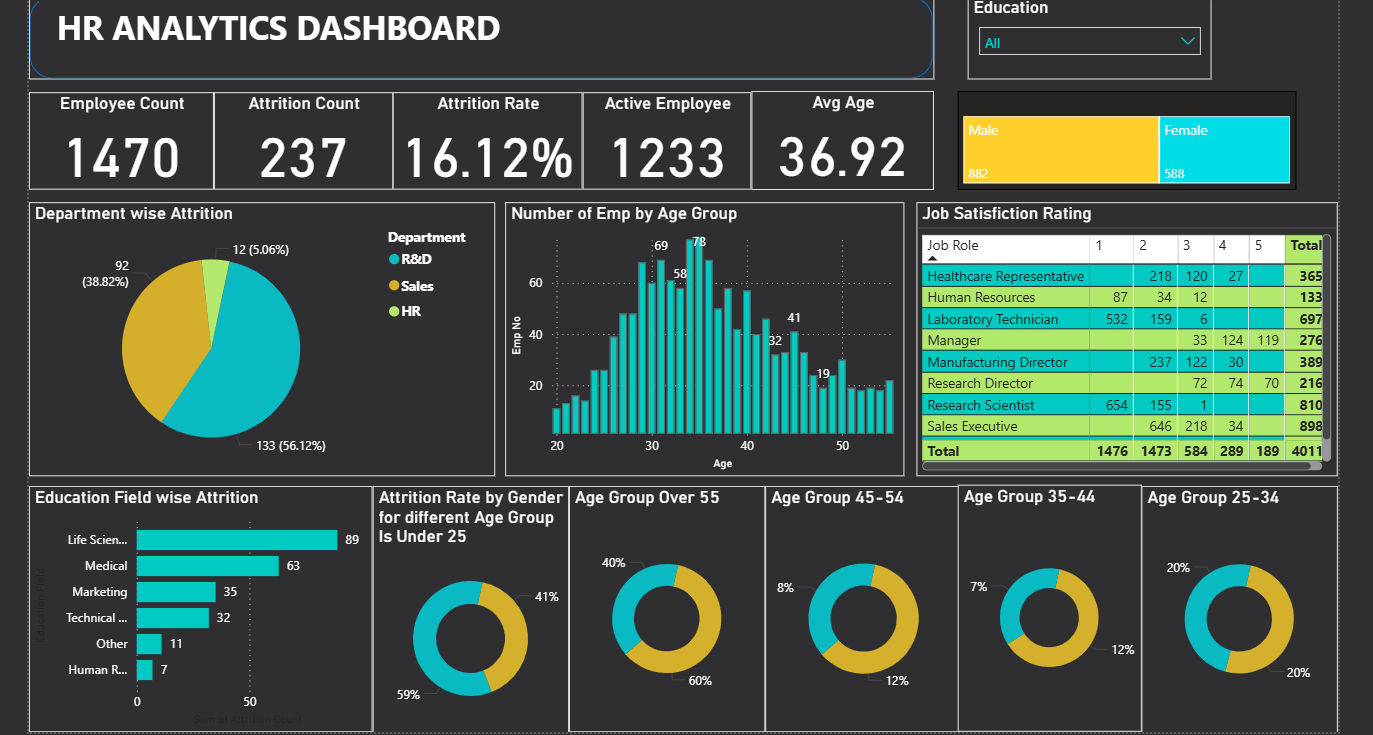

Layout of this report page (visuals, bound fields, positions):
{"tool":"powerbi","page":{"name":"HR Dashboard","canvas":[1280,720],"ordinal":0},"visuals":[{"type":"card","title":"Employee Count","fields":{"Values":["Sum(HR data.Employee Count)"]},"box":[0,94.2,181,95.4],"z":0},{"type":"card","title":"Attrition Count","fields":{"Values":["Sum(HR data.Attrition Count)"]},"box":[181,94.2,174.9,95.4],"z":1000},{"type":"card","title":"Attrition Rate","fields":{"Values":["HR data.Attrition Rate"]},"box":[355.8,94.2,185.9,95.4],"z":2000},{"type":"card","title":"Active Employee","fields":{"Values":["HR data.Active Member"]},"box":[541.7,94.2,165.1,95.4],"z":3000},{"type":"card","title":"Avg Age","fields":{"Values":["Avg(HR data.Age)"]},"box":[706.8,92.9,178.5,96.6],"z":4000},{"type":"pieChart","title":"Department wise Attrition ","fields":{"Y":["Sum(HR data.Attrition Count)"],"Category":["HR data.Department"]},"box":[0,201.8,456.1,267.8],"z":5000},{"type":"columnChart","title":"Number of Emp by Age Group","fields":{"Category":["HR data.Age"],"Y":["CountNonNull(HR data.emp no)"]},"box":[465.9,201.8,390.1,267.8],"z":6000},{"type":"pivotTable","title":"Job Satisfiction Rating","fields":{"Columns":["HR data.Job Level"],"Rows":["HR data.Job Role"],"Values":["Sum(HR data.Job Satisfaction)"]},"box":[868.2,201.8,412.1,267.8],"z":7000},{"type":"clusteredBarChart","title":"Education Field wise Attrition ","fields":{"Y":["Sum(HR data.Attrition Count)"],"Category":["HR data.Education Field"]},"box":[0,479.4,336.3,240.9],"z":8000},{"type":"shape","box":[0,0,885.3,81.9],"z":9000},{"type":"textbox","box":[9.8,3.7,468.3,53.8],"z":10000},{"type":"donutChart","title":"Attrition Rate by Gender for different Age Group Is Under 25","fields":{"Y":["HR data.Attrition Rate"],"Category":["HR data.Gender","HR data.CF_age band"]},"box":[336.2,478.9,192.1,241.5],"z":11000},{"type":"treemap","fields":{"Group":["HR data.Gender"],"Values":["CountNonNull(HR data.Gender)"]},"box":[908.6,92.9,331.4,96.6],"z":12000},{"type":"slicer","title":"Education","fields":{"Values":["HR data.Education"]},"box":[918.3,0,238.5,81.9],"z":13000},{"type":"donutChart","title":"Age Group Over 55","fields":{"Y":["HR data.Attrition Rate"],"Category":["HR data.Gender","HR data.CF_age band"]},"box":[528.3,479.4,192,240.9],"z":14000},{"type":"donutChart","title":"Age Group 45-54","fields":{"Y":["HR data.Attrition Rate"],"Category":["HR data.Gender","HR data.CF_age band"]},"box":[720.2,479.4,193.2,240.9],"z":15000},{"type":"donutChart","title":" Age Group 35-44","fields":{"Y":["HR data.Attrition Rate"],"Category":["HR data.Gender","HR data.CF_age band"]},"box":[908.4,477.5,179.8,241.5],"z":16000},{"type":"donutChart","title":"Age Group 25-34","fields":{"Y":["HR data.Attrition Rate"],"Category":["HR data.Gender","HR data.CF_age band"]},"box":[1088.2,478.9,192.1,241.5],"z":17000}]}

Visuals, with their boxes in screenshot pixels (x1, y1, x2, y2):
"Employee Count" card: 29,106,211,202
"Attrition Count" card: 211,106,388,202
"Attrition Rate" card: 388,106,575,202
"Active Employee" card: 575,106,742,202
"Avg Age" card: 742,104,922,202
"Department wise Attrition " pieChart: 29,214,489,484
"Number of Emp by Age Group" columnChart: 499,214,892,484
"Job Satisfiction Rating" pivotTable: 904,214,1320,484
"Education Field wise Attrition " clusteredBarChart: 29,494,368,734
shape: 29,11,922,93
textbox: 38,14,511,69
"Attrition Rate by Gender for different Age Group Is Under 25" donutChart: 368,494,562,734
treemap - HR data.Gender x CountNonNull(HR data.Gender): 945,104,1280,202
"Education" slicer: 955,11,1196,93
"Age Group Over 55" donutChart: 562,494,755,734
"Age Group 45-54" donutChart: 755,494,950,734
" Age Group 35-44" donutChart: 945,492,1126,734
"Age Group 25-34" donutChart: 1126,494,1320,734
